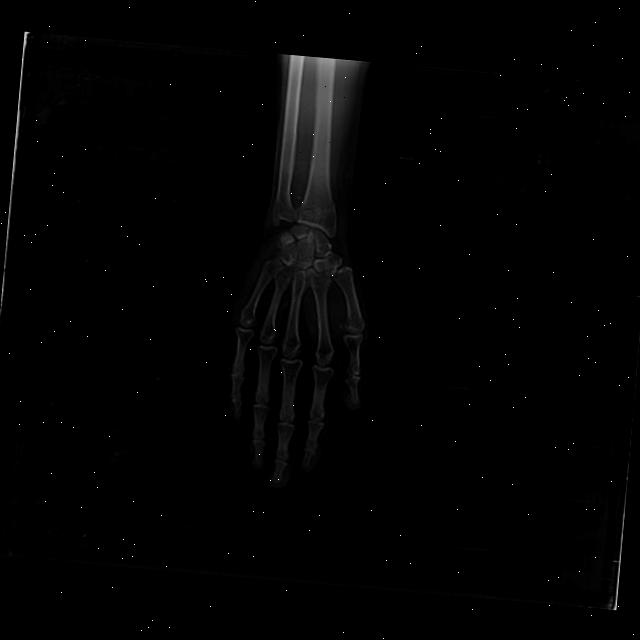Fracture: (296, 190, 337, 219), (342, 358, 356, 382)
